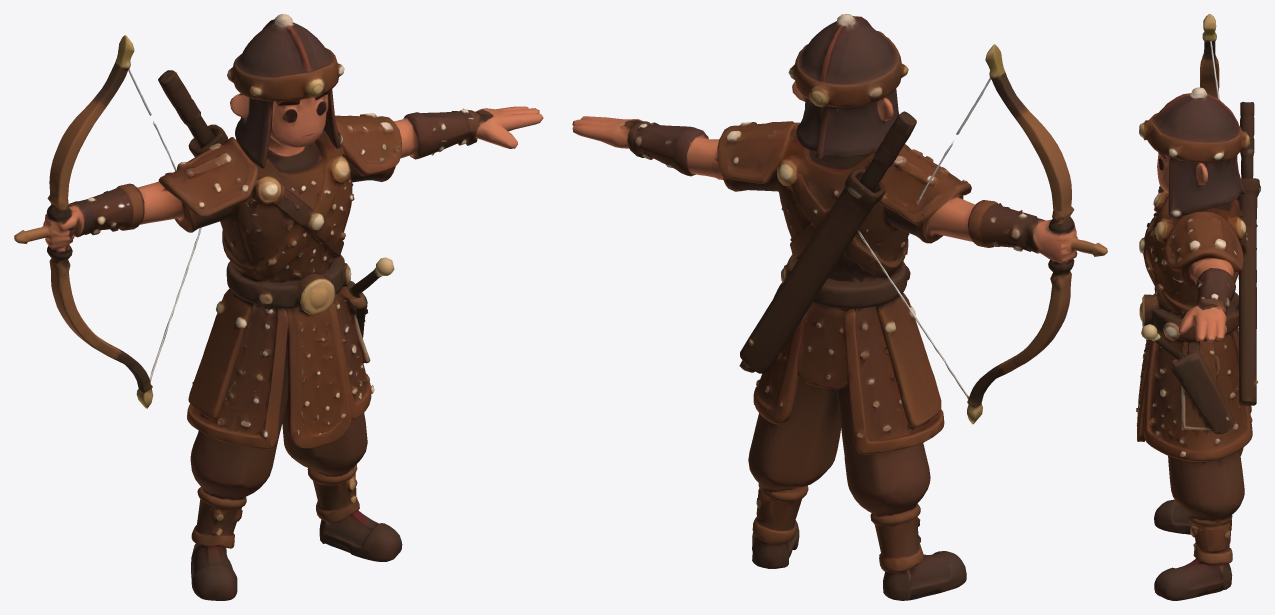
The model's file is soldier_archer.glb.
3 views of the same model, side by side, from view 1: azimuth 30°, elevation 25°; view 2: azimuth 150°, elevation 25°; view 3: azimuth 270°, elevation 25° (orthographic). The views are drawn at different scales.
Parts seen in each view (by area): view 1: tripo_node_b0350a7a-e92e-4ec9-aa17-8f8fec0dda62; view 2: tripo_node_b0350a7a-e92e-4ec9-aa17-8f8fec0dda62; view 3: tripo_node_b0350a7a-e92e-4ec9-aa17-8f8fec0dda62.
Part boxes in pixels (x1=…): tripo_node_b0350a7a-e92e-4ec9-aa17-8f8fec0dda62: x1=14, y1=14, x2=543, y2=600; tripo_node_b0350a7a-e92e-4ec9-aa17-8f8fec0dda62: x1=572, y1=14, x2=1107, y2=600; tripo_node_b0350a7a-e92e-4ec9-aa17-8f8fec0dda62: x1=1136, y1=14, x2=1260, y2=600.
Bounding box in the file's own units: 0.9774 × 1 × 0.2346.
1 material, 1 textured.
